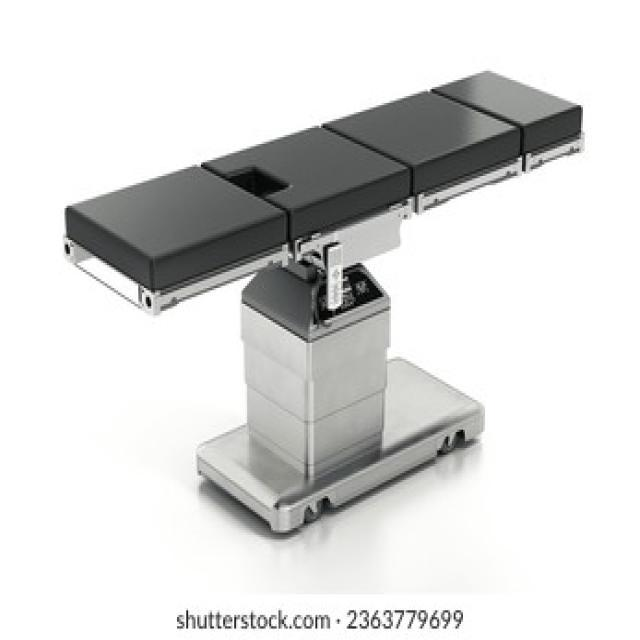bed: (61, 64, 585, 533)
